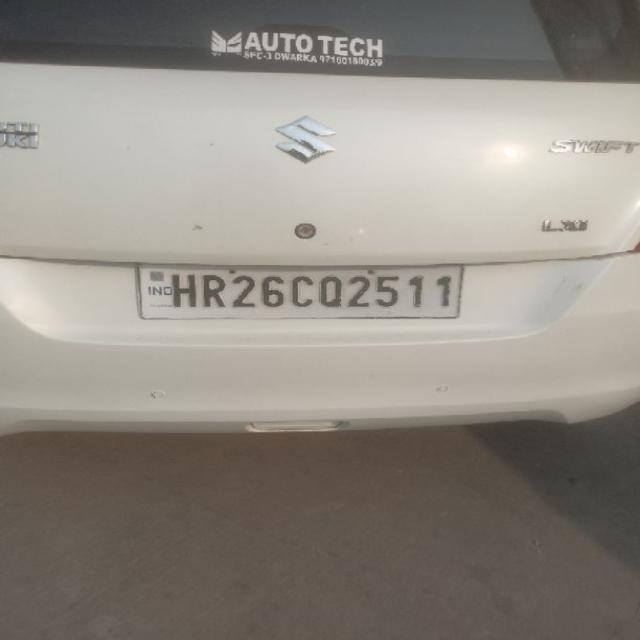license_plate: (134, 263, 464, 320)
